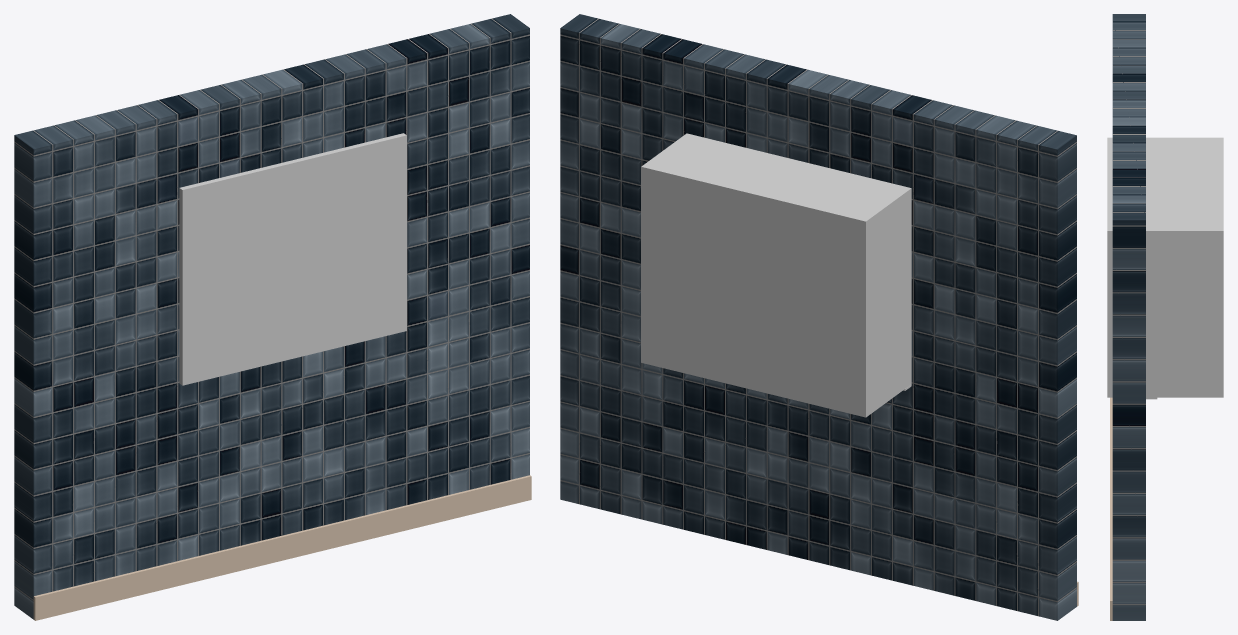
Rendered from Paredbano2.fbx.
The picture shows the model from 3 angles, left to right: view 1: azimuth 30°, elevation 25°; view 2: azimuth 150°, elevation 25°; view 3: azimuth 270°, elevation 25°; orthographic projection. The views are drawn at different scales.
Visible parts, largest first — view 1: Pared con ventana baño, CTRL_Hole, Baseboard.011; view 2: Pared con ventana baño, CTRL_Hole; view 3: CTRL_Hole, Pared con ventana baño, Baseboard.011.
Boxes of the visible parts, x1,y1,x2,y2 form: Pared con ventana baño: (14, 14, 529, 619); CTRL_Hole: (179, 133, 406, 385); Baseboard.011: (33, 475, 531, 620); Pared con ventana baño: (560, 14, 1076, 620); CTRL_Hole: (641, 133, 911, 417); CTRL_Hole: (1107, 137, 1223, 397); Pared con ventana baño: (1112, 14, 1145, 620); Baseboard.011: (1110, 397, 1112, 620).
Bounding box in the file's own units: 2.65 × 2.4 × 0.63.
3 materials, 1 textured.
